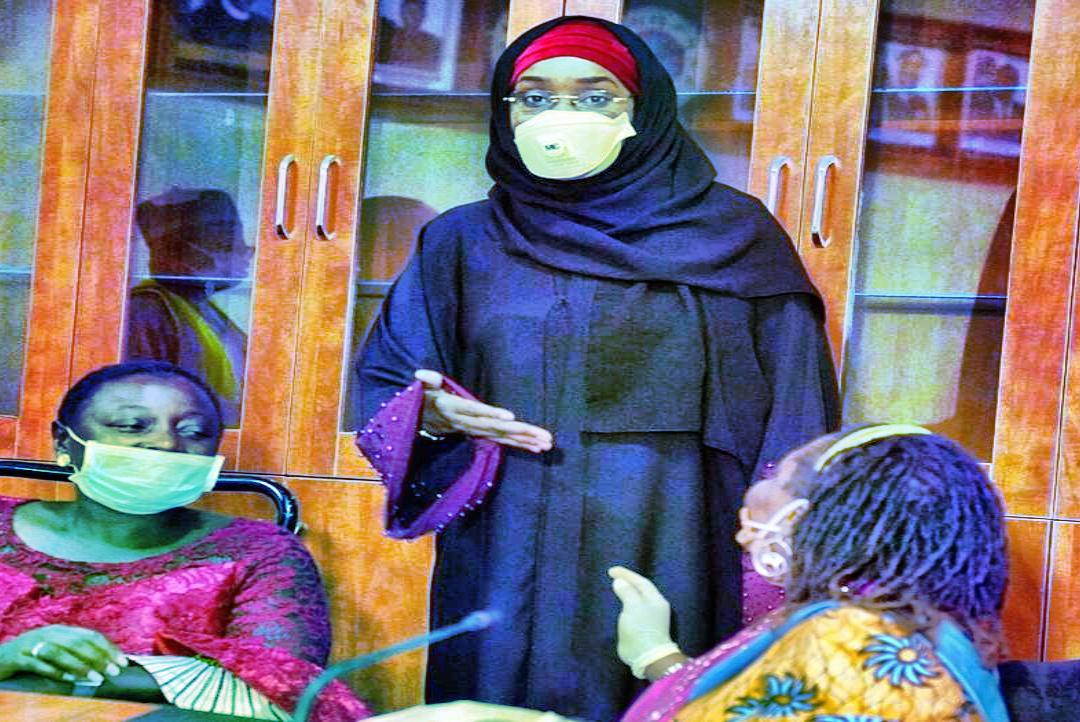mask_weared_incorrect: (51, 364, 226, 517)
